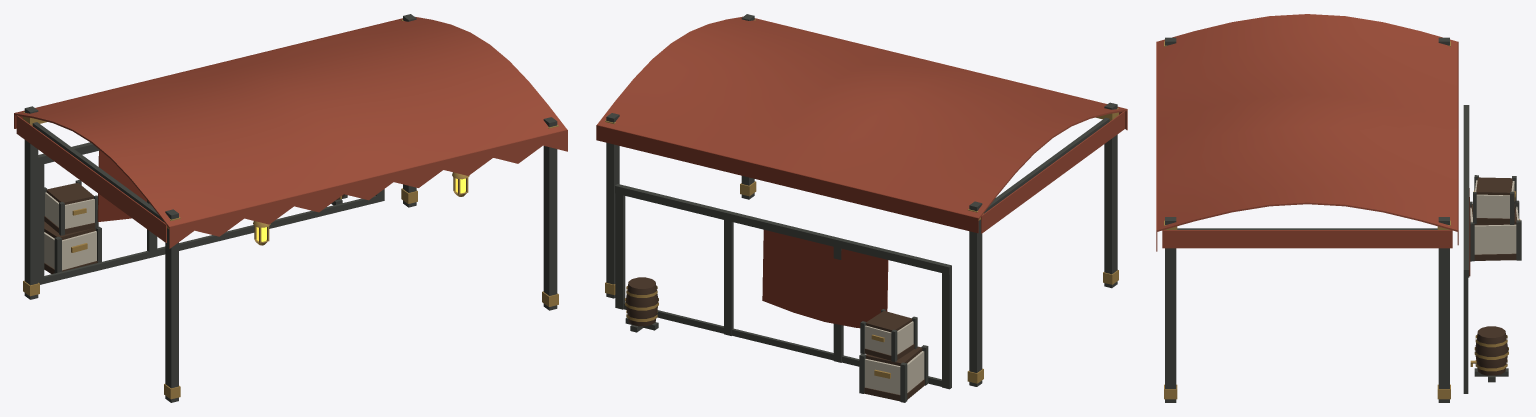
The model's file is stall.glb.
The picture shows the model from 3 angles, left to right: view 1: azimuth 30°, elevation 25°; view 2: azimuth 150°, elevation 25°; view 3: azimuth 270°, elevation 25°; orthographic projection. The views are drawn at different scales.
Visible parts, largest first — view 1: stall; view 2: stall; view 3: stall.
Boxes of the visible parts, box(x1,y1,x2,y2) form: stall: box(14, 14, 567, 402); stall: box(596, 14, 1127, 402); stall: box(1156, 14, 1521, 402).
Size of the model in its own units: 8.02 by 4.01 by 6.55.
